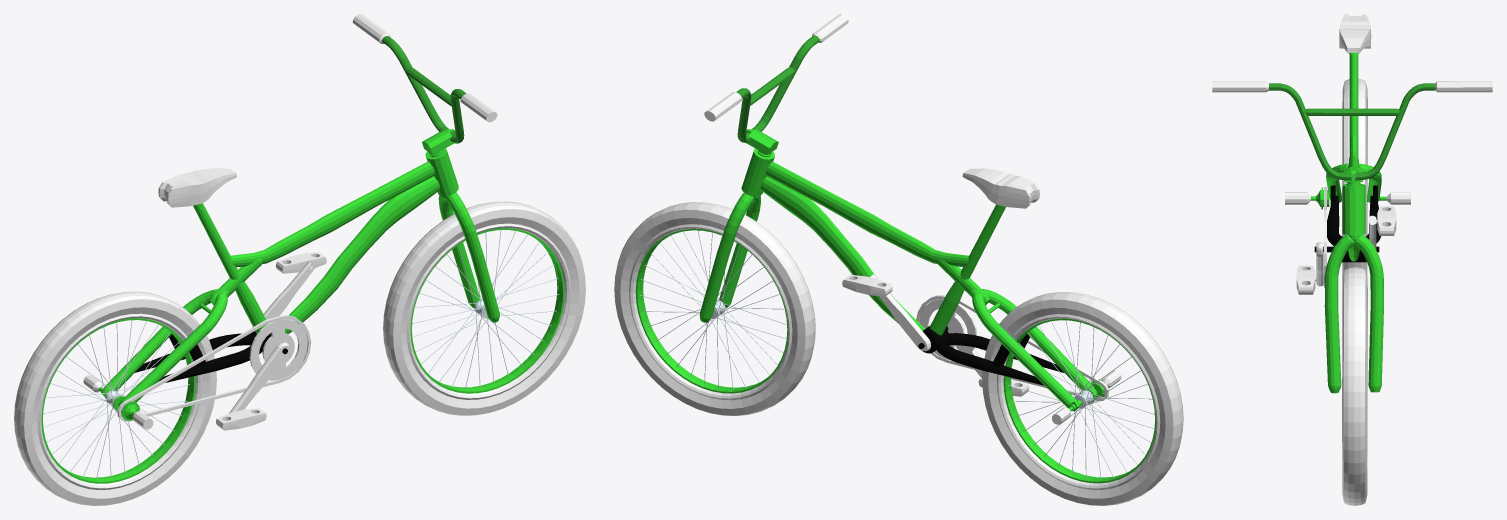
File: bicylce.fbx
3 renders of one model, left to right at view 1: azimuth 30°, elevation 25°; view 2: azimuth 150°, elevation 25°; view 3: azimuth 270°, elevation 25°, orthographic. The views are drawn at different scales.
Parts seen in each view (by area): view 1: Cylinder.027; view 2: Cylinder.027; view 3: Cylinder.027.
Part boxes in pixels (x1,y1,x2,y2): Cylinder.027: (14, 14, 585, 505); Cylinder.027: (614, 14, 1183, 505); Cylinder.027: (1212, 14, 1492, 505).
Size of the model in its own units: 932 by 573 by 381.
